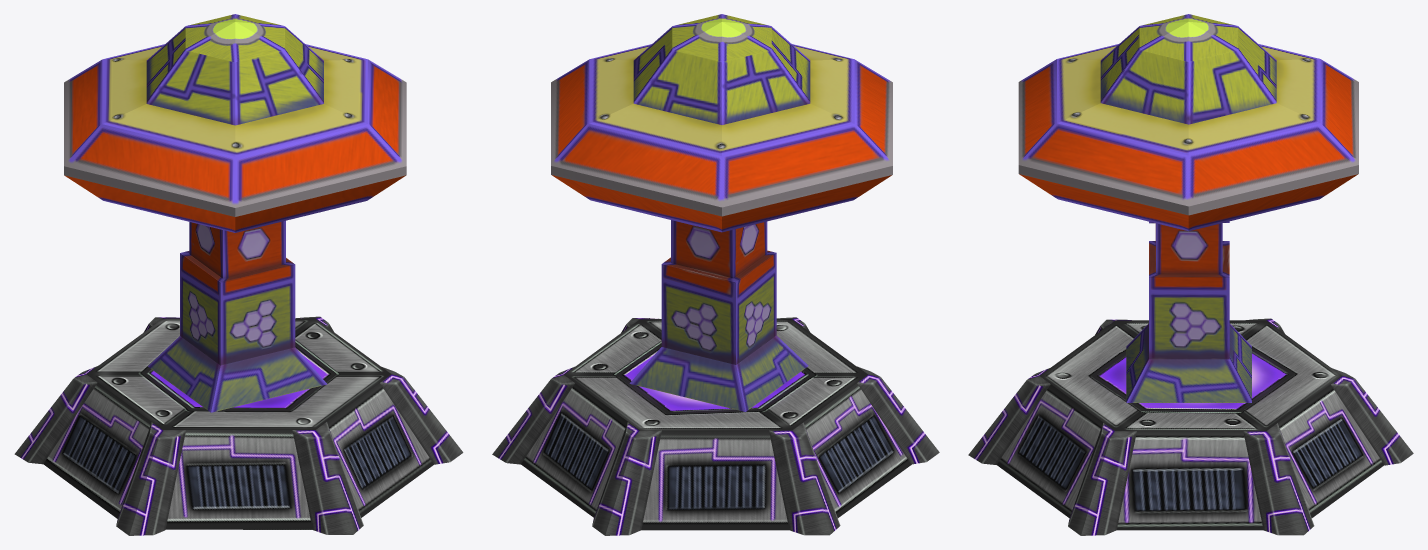
File: Tower_DisablerAoE.FBX
3 views of the same model, side by side, from view 1: azimuth 30°, elevation 25°; view 2: azimuth 150°, elevation 25°; view 3: azimuth 270°, elevation 25° (orthographic).
Visible parts, largest first — view 1: Base_DisablerAoE, Body_DisablerAoE; view 2: Base_DisablerAoE, Body_DisablerAoE; view 3: Base_DisablerAoE, Body_DisablerAoE.
Part boxes in pixels (<box>): Base_DisablerAoE: <box>14,220,463,535</box>; Body_DisablerAoE: <box>64,14,406,232</box>; Base_DisablerAoE: <box>492,220,939,535</box>; Body_DisablerAoE: <box>551,14,892,232</box>; Base_DisablerAoE: <box>968,221,1413,535</box>; Body_DisablerAoE: <box>1018,14,1358,231</box>.
Size of the model in its own units: 26.17 by 31.39 by 29.49.
